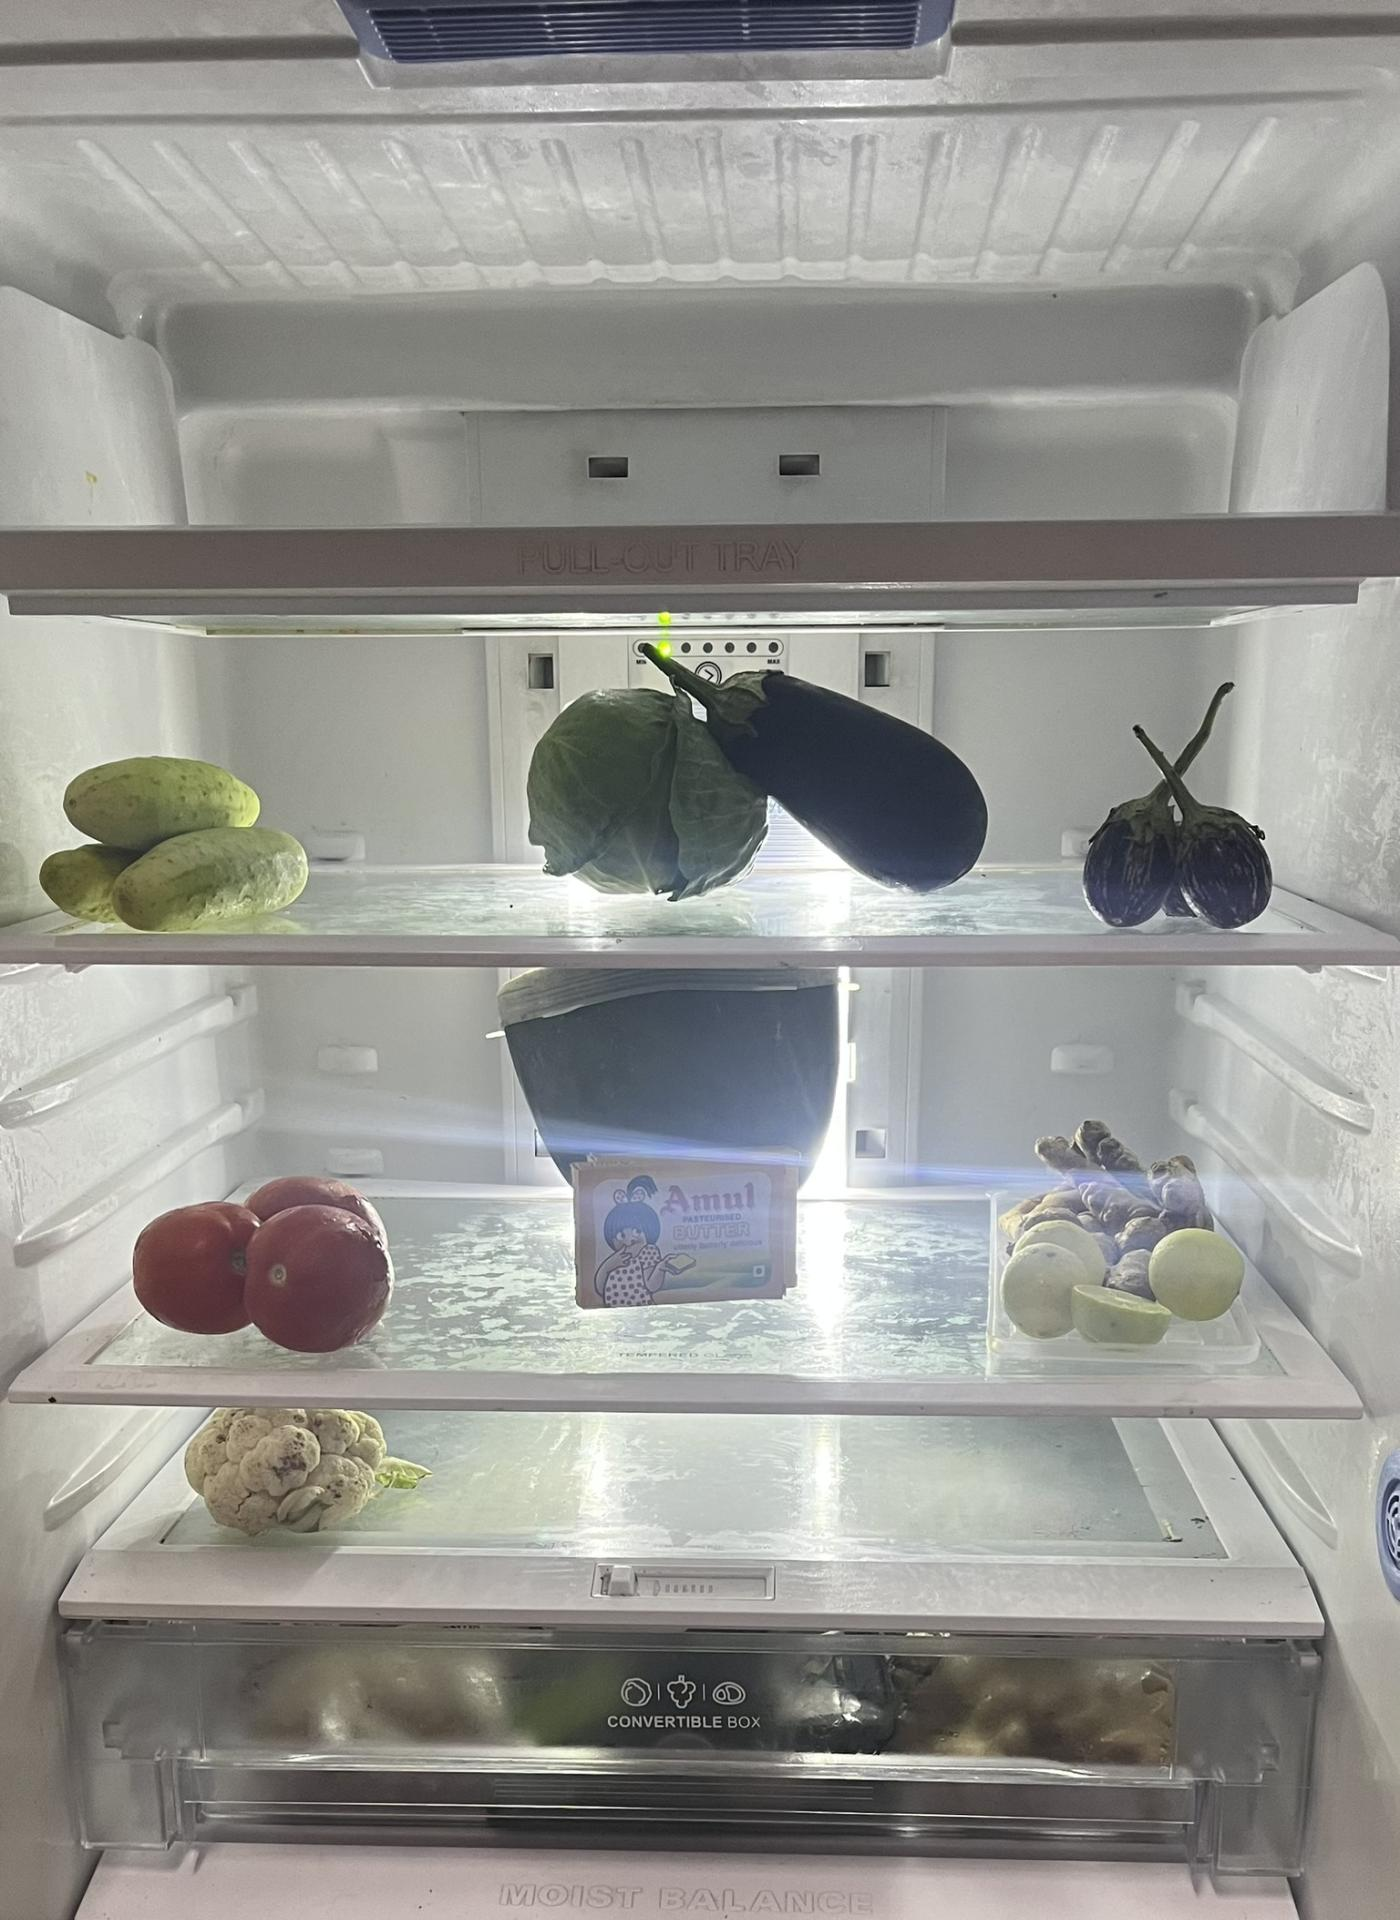butter: (576, 1145, 801, 1303)
cabbage: (531, 686, 772, 896)
cauliflower: (179, 1412, 392, 1537)
cucumber: (43, 733, 298, 927)
ginger: (1045, 1108, 1214, 1230)
lemon: (1008, 1215, 1233, 1337)
tomato: (130, 1160, 386, 1346)
watermelon: (498, 967, 848, 1209)
